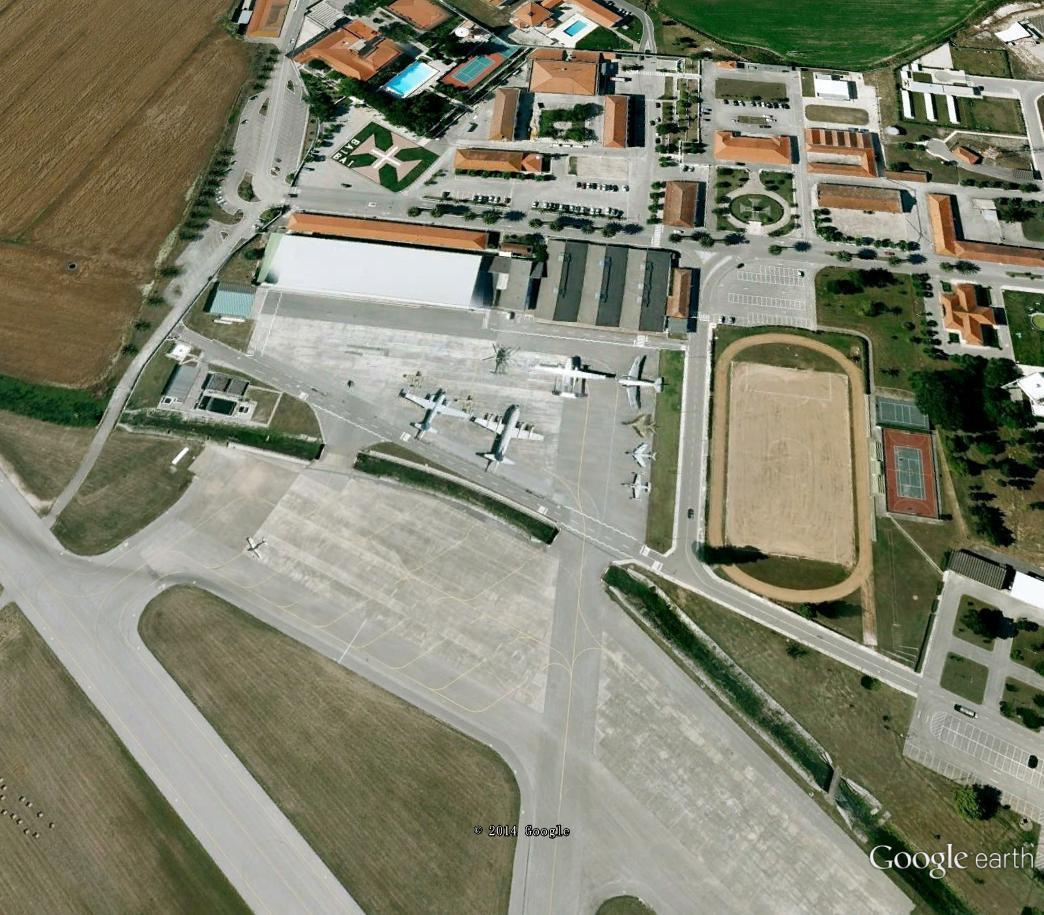aircraft: (469, 403, 547, 469), (397, 387, 472, 441), (534, 354, 613, 400), (613, 352, 669, 412), (624, 439, 663, 471), (622, 469, 658, 502), (241, 531, 271, 564)
